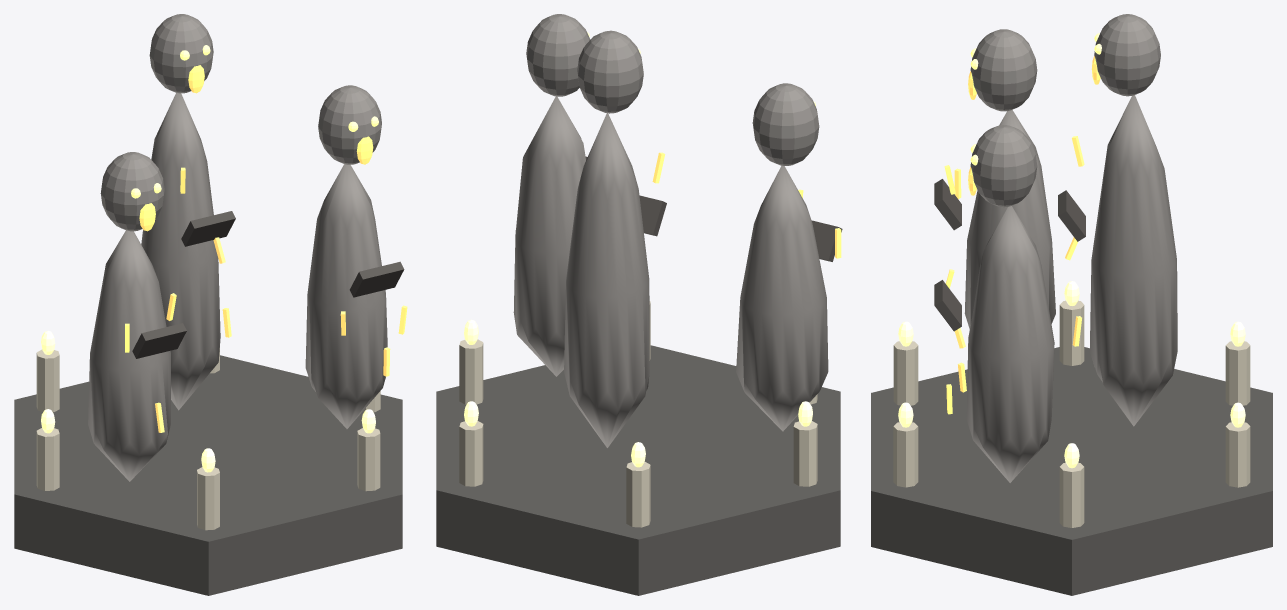
Rendered from choir_of_ash.glb.
The picture shows the model from 3 angles, left to right: view 1: azimuth 30°, elevation 25°; view 2: azimuth 150°, elevation 25°; view 3: azimuth 270°, elevation 25°; orthographic projection. The views are drawn at different scales.
Parts seen in each view (by area): view 1: choir_of_ash; view 2: choir_of_ash; view 3: choir_of_ash.
Part boxes in pixels (x1,y1,x2,y2): choir_of_ash: [14, 14, 407, 595]; choir_of_ash: [436, 14, 842, 595]; choir_of_ash: [871, 14, 1272, 595].
Size of the model in its own units: 1.5 by 1.72 by 1.3.
